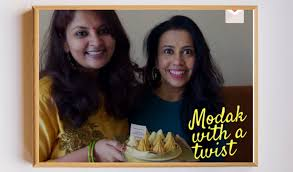modak: (165, 138, 177, 152), (153, 138, 162, 155), (139, 141, 150, 151)
